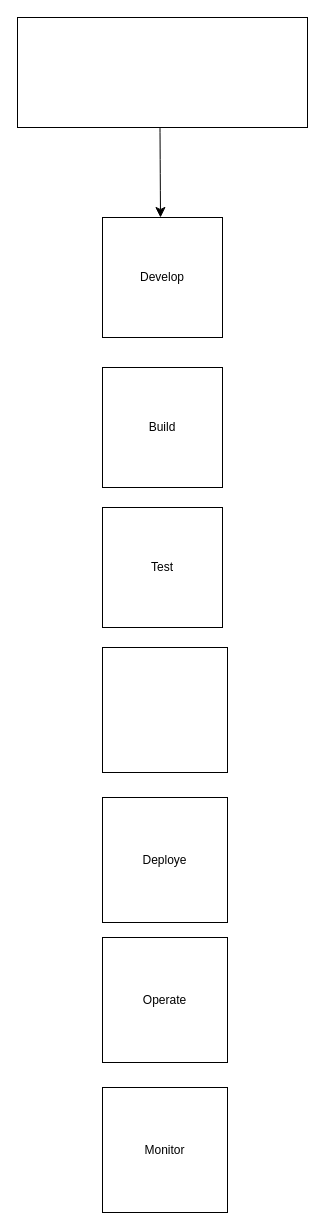
Some shapes in this 325 by 1230 pixel diagram are drawn without their labels. The box of each missing label's shape, as (x1, y1, x2, y2) in pixels:
Plan: (16, 16, 308, 128)
Relese: (102, 646, 228, 772)
